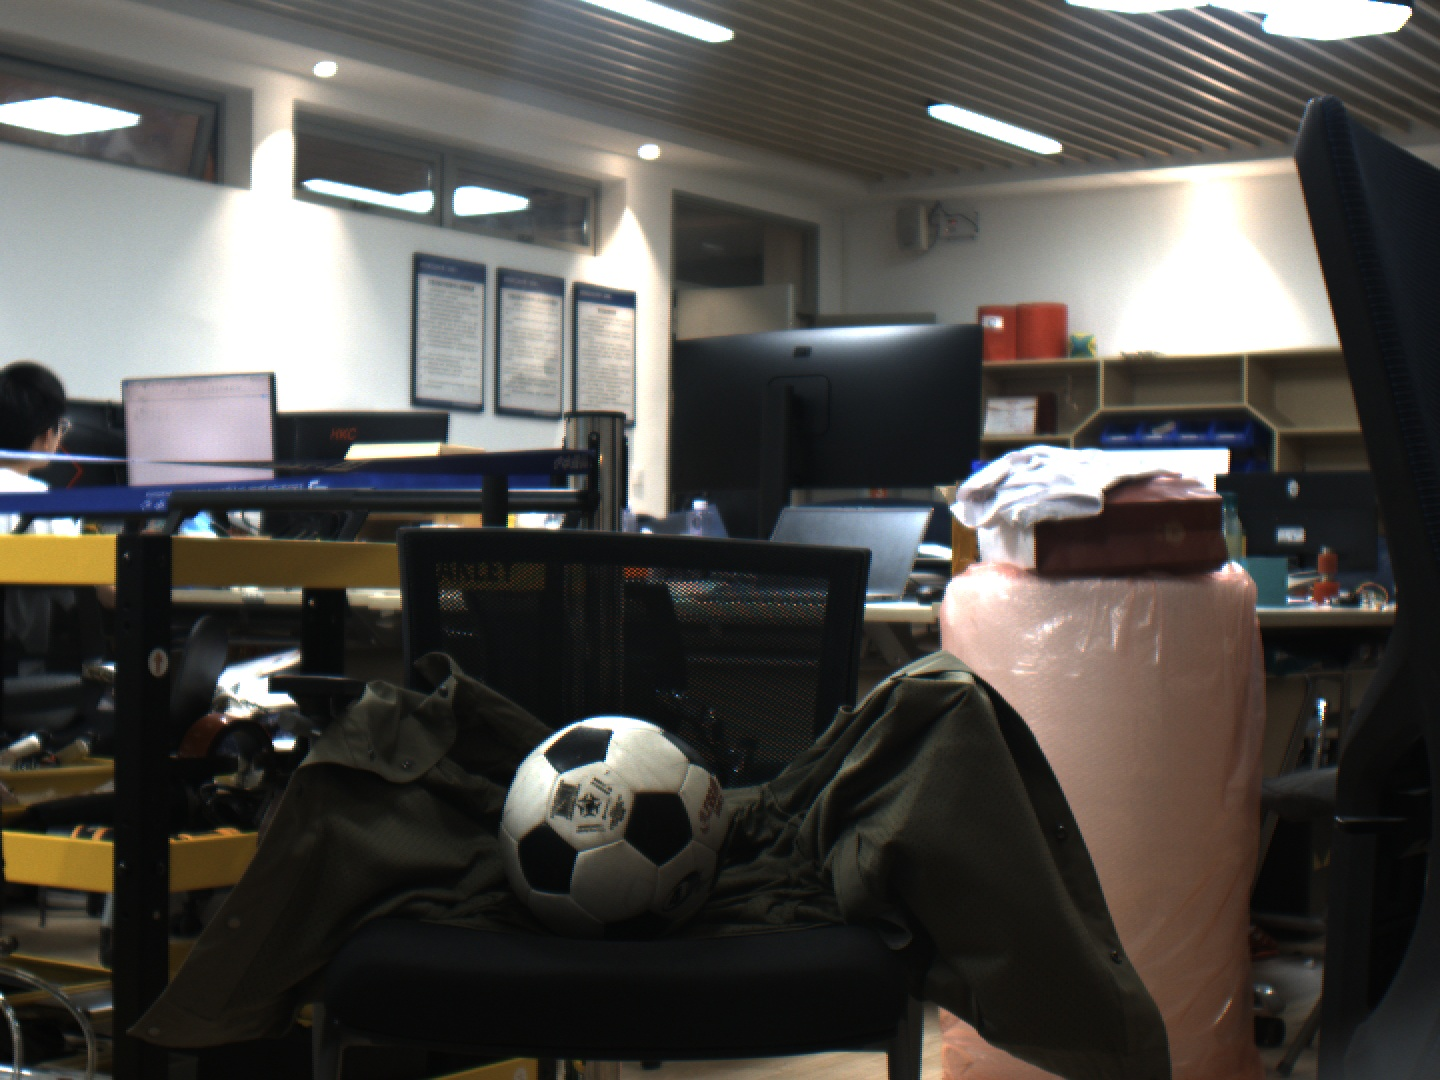ball: (497, 722, 734, 939)
